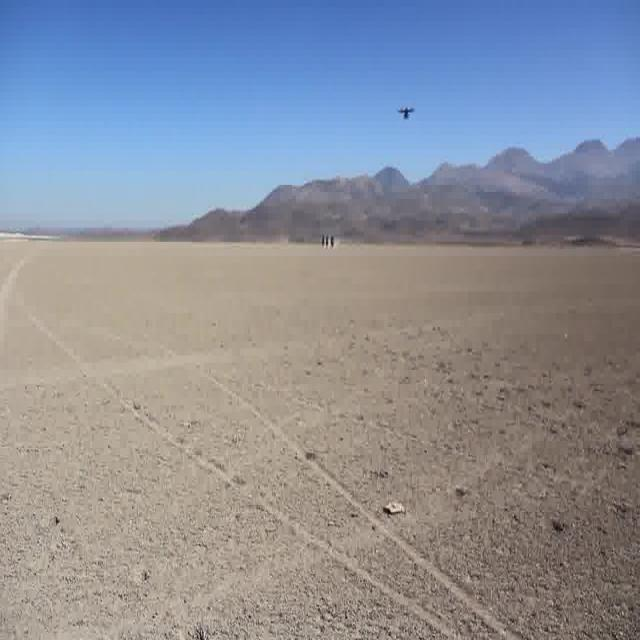drone: (395, 100, 416, 122)
